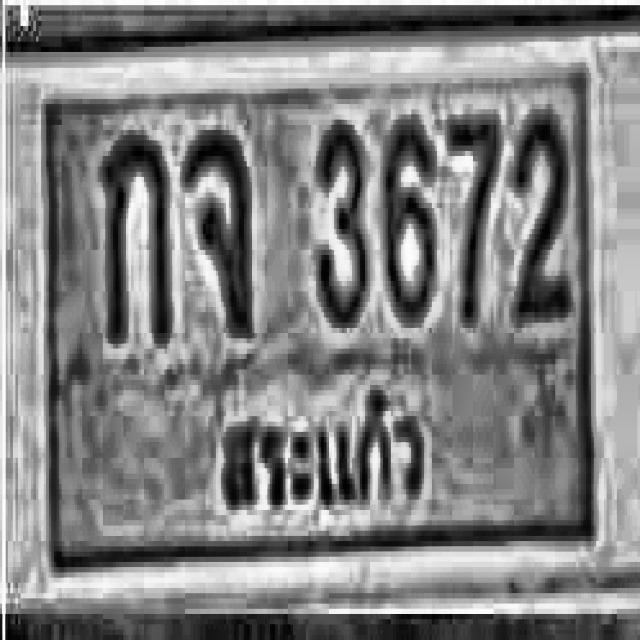license-plate: (0, 28, 640, 606)
